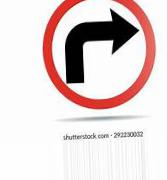right: (42, 1, 157, 110)
